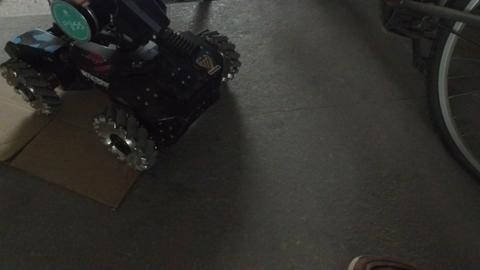chariot: (10, 7, 252, 173)
